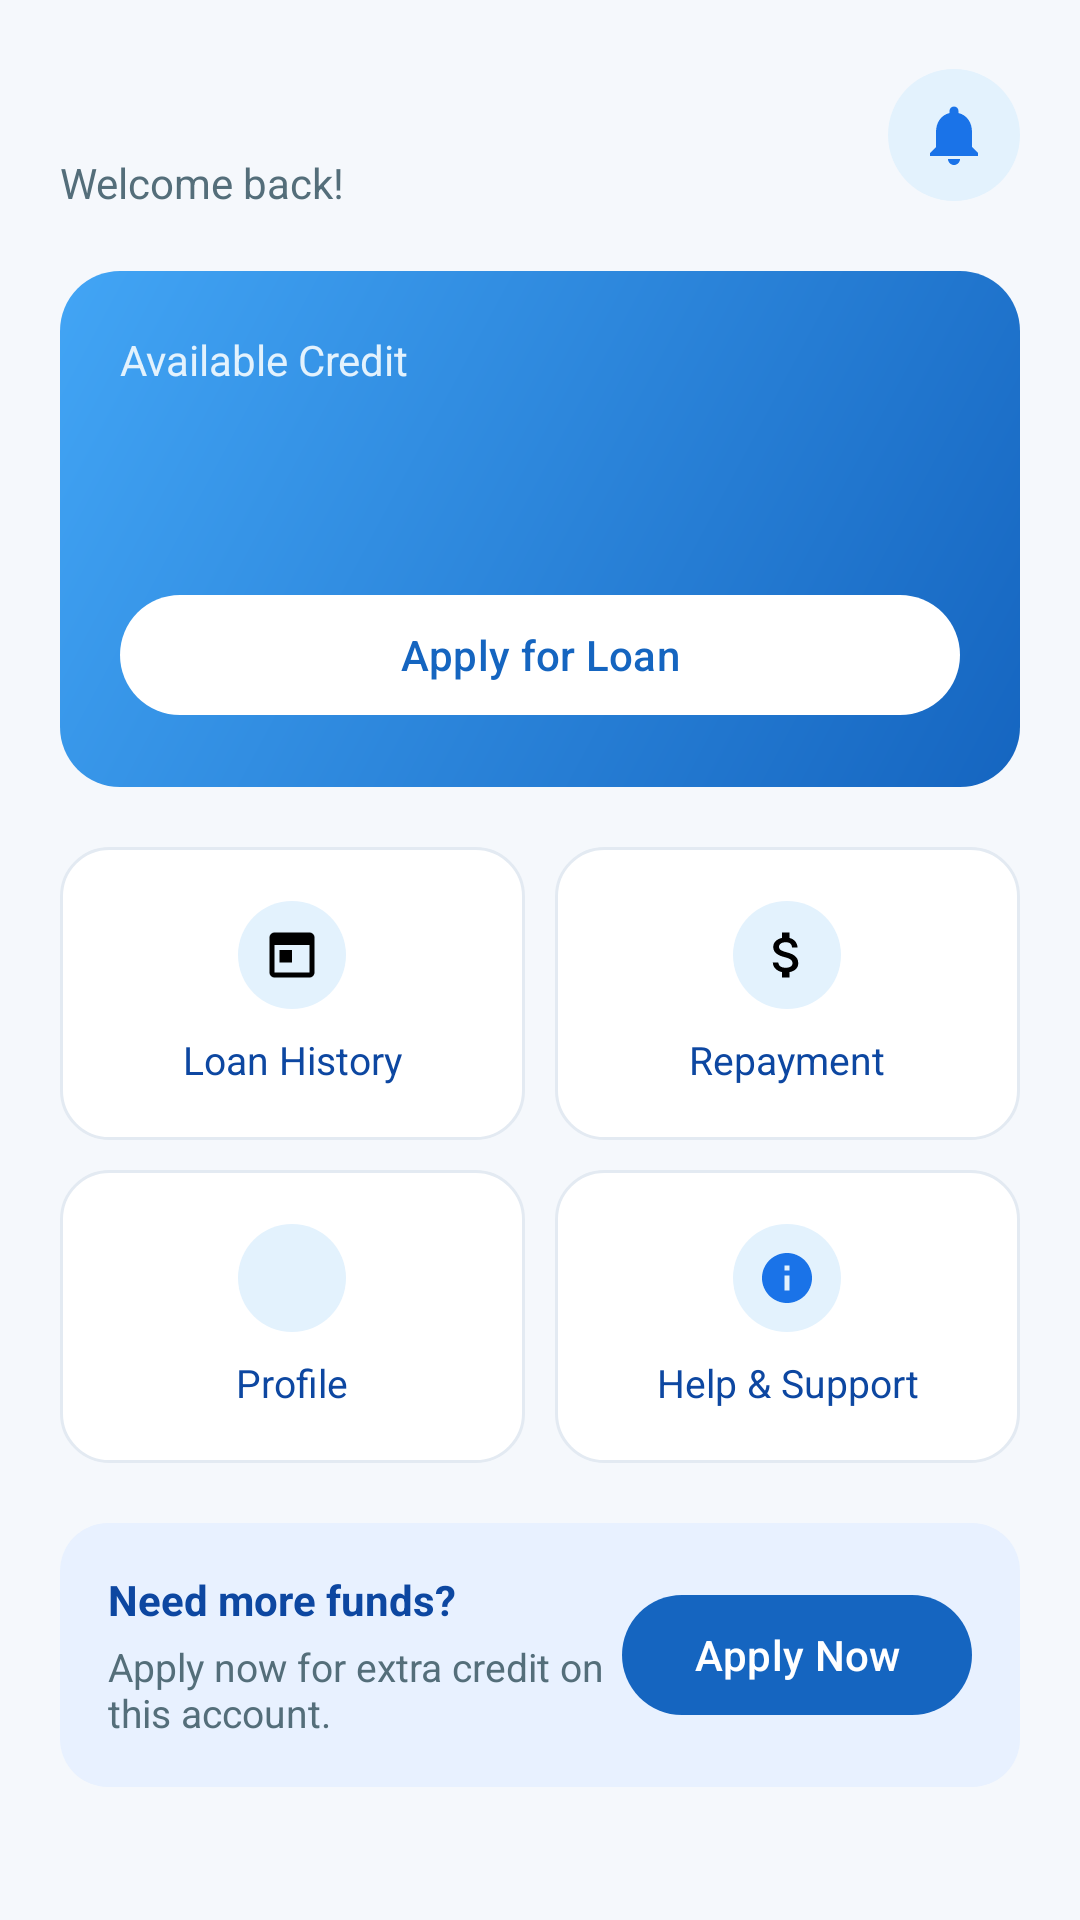

Screen size 1080*1920. Icon name, then its center in pixels as (x=x, y=y):
Notifications: (x=954, y=135)
